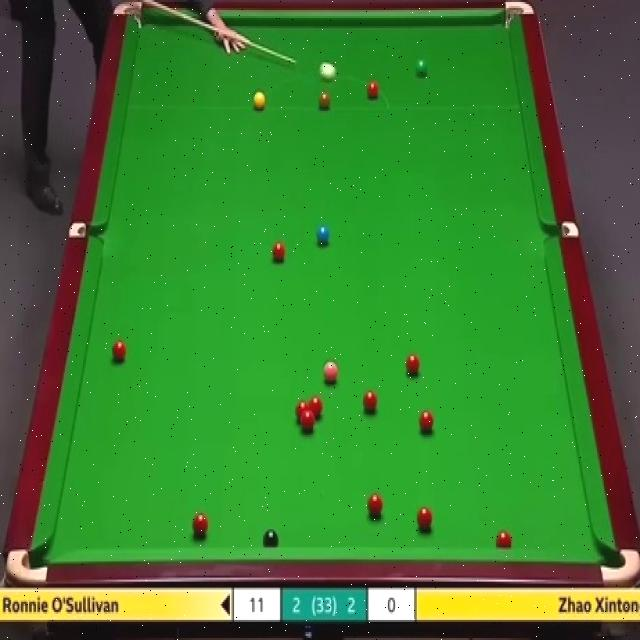black-ball: (262, 529, 281, 549)
blue-ball: (317, 223, 330, 248)
brown-ball: (318, 88, 331, 109)
green-ball: (412, 56, 428, 78)
pink-ball: (323, 361, 339, 386)
red-ball: (416, 507, 434, 534), (360, 388, 378, 413), (366, 494, 384, 519), (405, 352, 422, 378), (191, 512, 208, 538), (111, 337, 126, 362), (418, 409, 434, 432), (295, 400, 309, 426), (309, 396, 323, 420), (272, 239, 284, 266), (495, 529, 513, 547), (301, 413, 316, 433), (367, 78, 380, 100)
white-ball: (321, 62, 338, 80)
yellow-ball: (252, 91, 266, 110)
